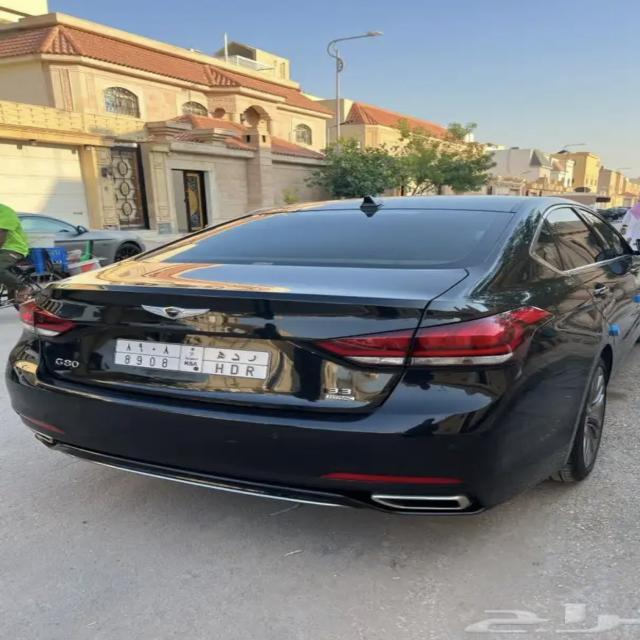license_plate: (114, 336, 270, 384)
